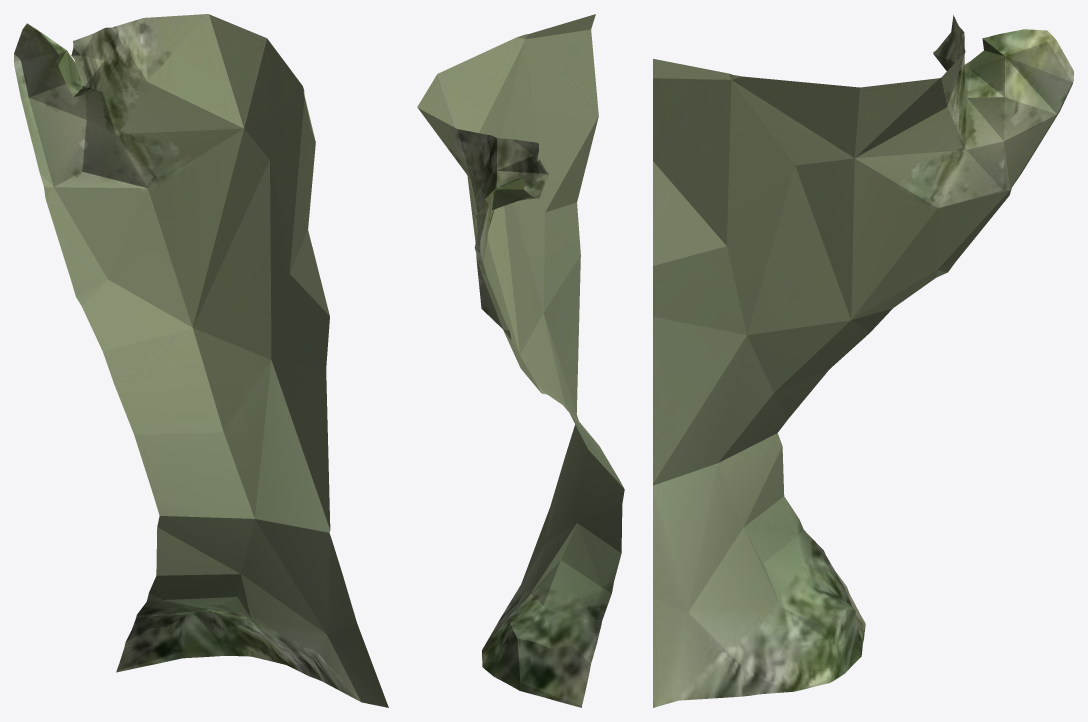
3 views of the same model, side by side, from view 1: azimuth 30°, elevation 25°; view 2: azimuth 150°, elevation 25°; view 3: azimuth 270°, elevation 25° (orthographic). The views are drawn at different scales.
Bounding box in the file's own units: 0.8648 × 2.95 × 1.84.
1 material, 1 textured.
